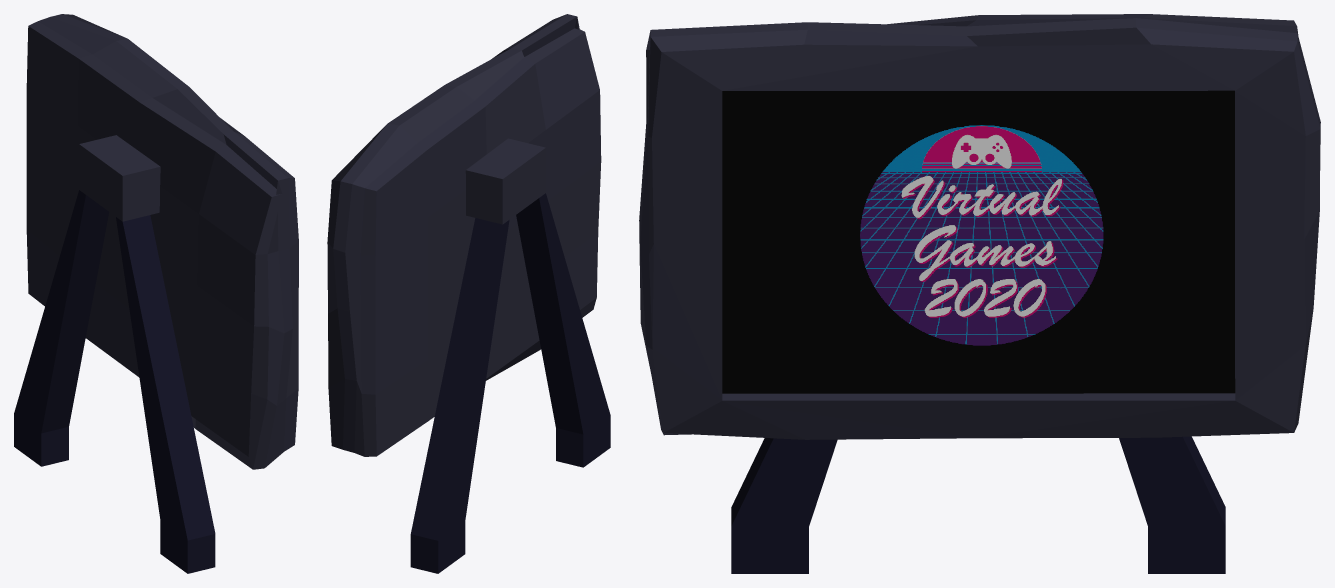
3 renders of one model, left to right at view 1: azimuth 30°, elevation 25°; view 2: azimuth 150°, elevation 25°; view 3: azimuth 270°, elevation 25°, orthographic. The views are drawn at different scales.
Parts seen in each view (by area): view 1: tv; view 2: tv; view 3: screen, tv.
Boxes of the visible parts, box(x1,y1,x2,y2) form: tv: box(14, 14, 298, 573); tv: box(327, 14, 610, 573); screen: box(722, 90, 1235, 393); tv: box(639, 14, 1320, 573).
Bounding box in the file's own units: 132 × 588 × 620.
